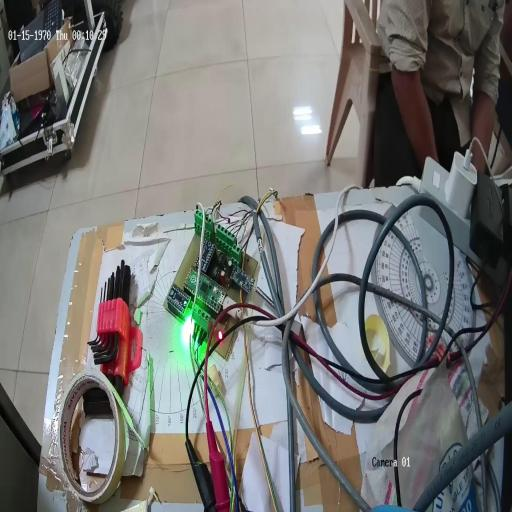laser: (179, 311, 196, 350)
